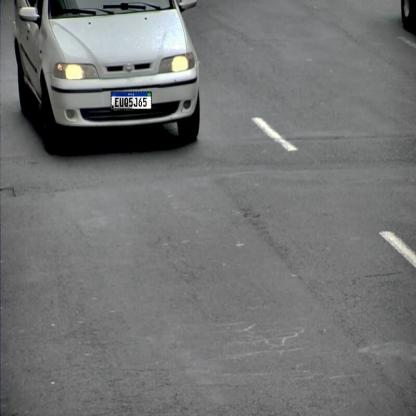PlacaM: (111, 92, 152, 110)
